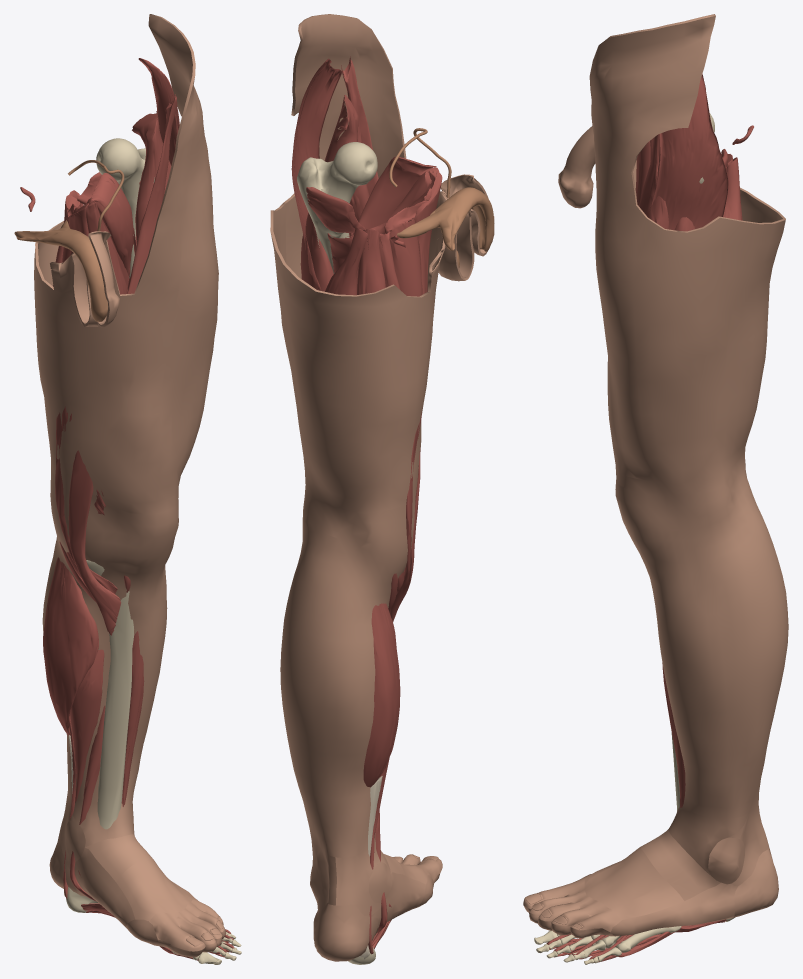
File: leg.glb
3 renders of one model, left to right at view 1: azimuth 30°, elevation 25°; view 2: azimuth 150°, elevation 25°; view 3: azimuth 270°, elevation 25°, orthographic. The views are drawn at different scales.
Visible parts, largest first — view 1: real-skin-anterior-region-of-thigh-l, real-skin-anterior-region-of-knee-l, real-medial-head-of-left-gastrocnemius, real-skin-anterior-region-of-leg-l, tibia, sartorius-left, real-skin-posterior-region-of-thigh-l, real-skin-urogenital-region-l, real-skin-metatarsal-region-l, soleus-left, real-penile-erectile-tissues-corpus-cavernosum-of-penis, real-skin-dorsal-surfaces-of-digits-of-foot-l (+16 smaller); view 2: real-skin-posterior-region-of-thigh-l, real-skin-posterior-region-of-leg-l, real-skin-anterior-region-of-thigh-l, real-skin-posterior-region-of-knee-l, real-medial-head-of-left-gastrocnemius, femur, real-left-iliotibial-tract, real-skin-heel-region-l, real-skin-urogenital-region-l, real-penile-erectile-tissues-corpus-cavernosum-of-penis, real-left-adductor-magnus, real-left-pectineus (+17 smaller); view 3: real-skin-anterior-region-of-thigh-l, real-skin-posterior-region-of-thigh-l, real-skin-posterior-region-of-leg-l, real-skin-anterior-region-of-leg-l, real-skin-posterior-region-of-knee-l, real-left-iliotibial-tract, real-skin-anterior-region-of-knee-l, real-skin-metatarsal-region-l, real-skin-lateral-border-of-foot-l, real-skin-dorsal-surfaces-of-digits-of-foot-l, real-skin-dorsum-of-foot-l, real-skin-anterior-region-of-ankle-l (+10 smaller).
Boxes of the visible parts, x1,y1,x2,y2 form: real-skin-anterior-region-of-thigh-l: (52, 14, 218, 503); real-skin-anterior-region-of-knee-l: (61, 485, 178, 592); real-medial-head-of-left-gastrocnemius: (43, 557, 98, 736); real-skin-anterior-region-of-leg-l: (71, 574, 167, 803); tibia: (86, 560, 134, 829); sartorius-left: (68, 94, 177, 635); real-skin-posterior-region-of-thigh-l: (34, 221, 63, 484); real-skin-urogenital-region-l: (50, 231, 119, 327); real-skin-metatarsal-region-l: (116, 858, 195, 921); soleus-left: (70, 649, 104, 802); real-penile-erectile-tissues-corpus-cavernosum-of-penis: (14, 220, 107, 321); real-skin-dorsal-surfaces-of-digits-of-foot-l: (149, 899, 224, 951); real-skin-posterior-region-of-thigh-l: (270, 203, 430, 513); real-skin-posterior-region-of-leg-l: (280, 591, 375, 857); real-skin-anterior-region-of-thigh-l: (283, 14, 447, 498); real-skin-posterior-region-of-knee-l: (290, 486, 412, 610); real-medial-head-of-left-gastrocnemius: (363, 603, 400, 787); femur: (297, 142, 377, 273); real-left-iliotibial-tract: (291, 58, 342, 290); real-skin-heel-region-l: (313, 903, 378, 961); real-skin-urogenital-region-l: (428, 174, 494, 292); real-penile-erectile-tissues-corpus-cavernosum-of-penis: (397, 187, 494, 251); real-left-adductor-magnus: (327, 200, 426, 296); real-left-pectineus: (352, 156, 436, 236); real-skin-anterior-region-of-thigh-l: (589, 14, 715, 484); real-skin-posterior-region-of-thigh-l: (675, 187, 785, 483); real-skin-posterior-region-of-leg-l: (703, 545, 788, 818); real-skin-anterior-region-of-leg-l: (650, 578, 719, 817); real-skin-posterior-region-of-knee-l: (683, 470, 773, 586); real-left-iliotibial-tract: (648, 74, 728, 230); real-skin-anterior-region-of-knee-l: (615, 466, 702, 588); real-skin-metatarsal-region-l: (584, 847, 683, 919); real-skin-lateral-border-of-foot-l: (611, 882, 737, 935); real-skin-dorsal-surfaces-of-digits-of-foot-l: (523, 877, 621, 932); real-skin-dorsum-of-foot-l: (640, 829, 720, 900); real-skin-anterior-region-of-ankle-l: (668, 805, 749, 876).
Bounding box in the file's own units: 0.2144 × 1.03 × 0.2641.
